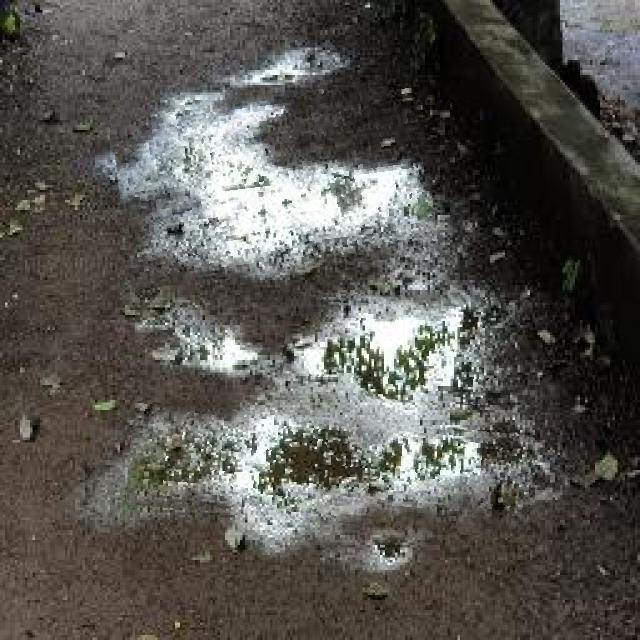puddle: (117, 86, 436, 282), (128, 411, 535, 531), (284, 295, 510, 405)
